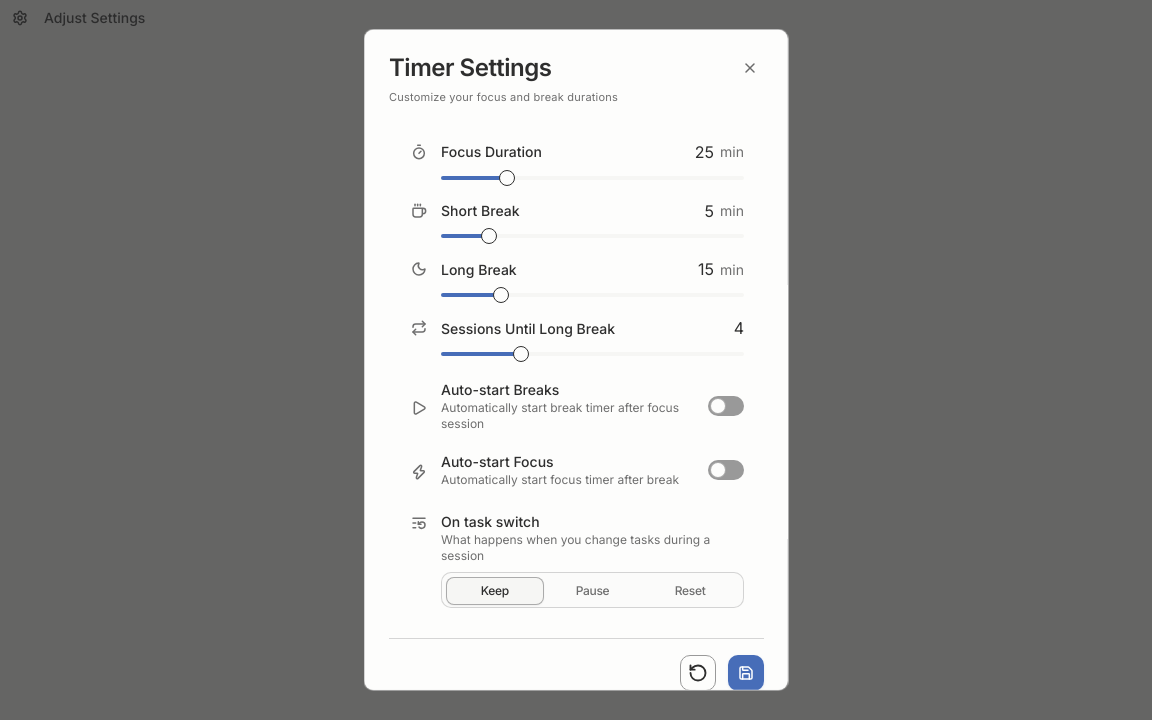
Test: FocusSettingsDialog › resets to the current saved settings, not to a stale mount-time snapshot
Earlier steps of the test are not shown.
Replace the text in the number field named "Focus Duration" with "99" at (694, 152), box top-left (674, 140), bottom-right (714, 163)
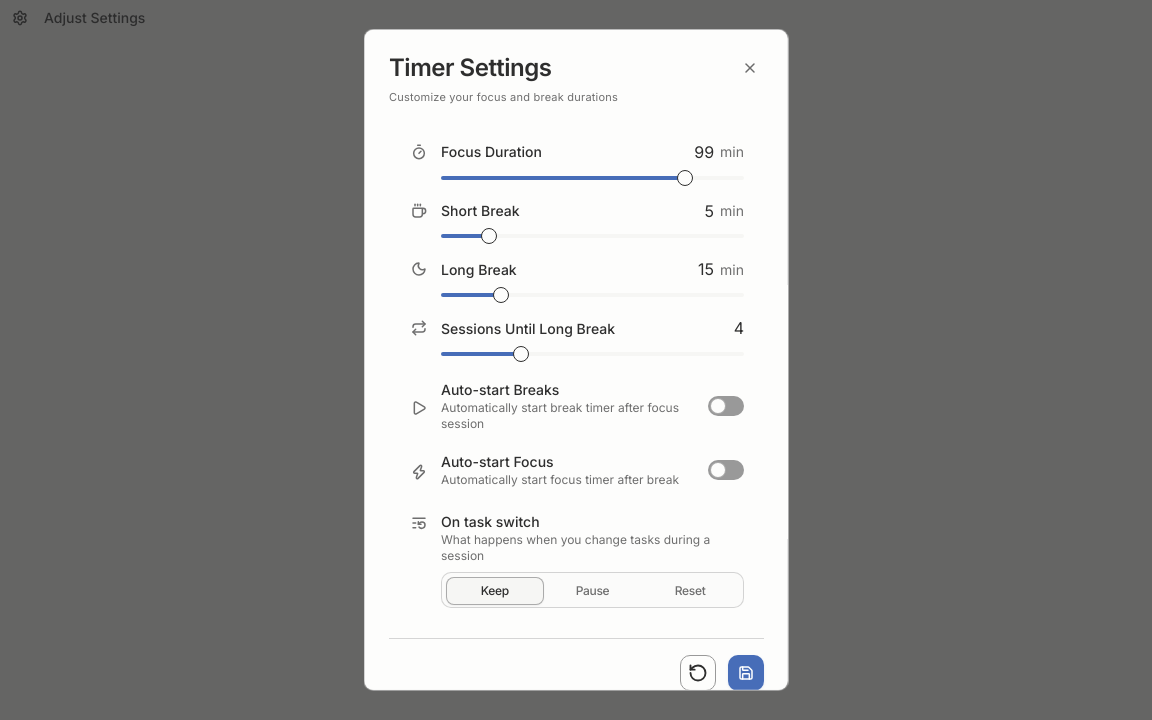
Click the button named "reset to saved settings" at (698, 673), box top-left (680, 655), bottom-right (716, 691)
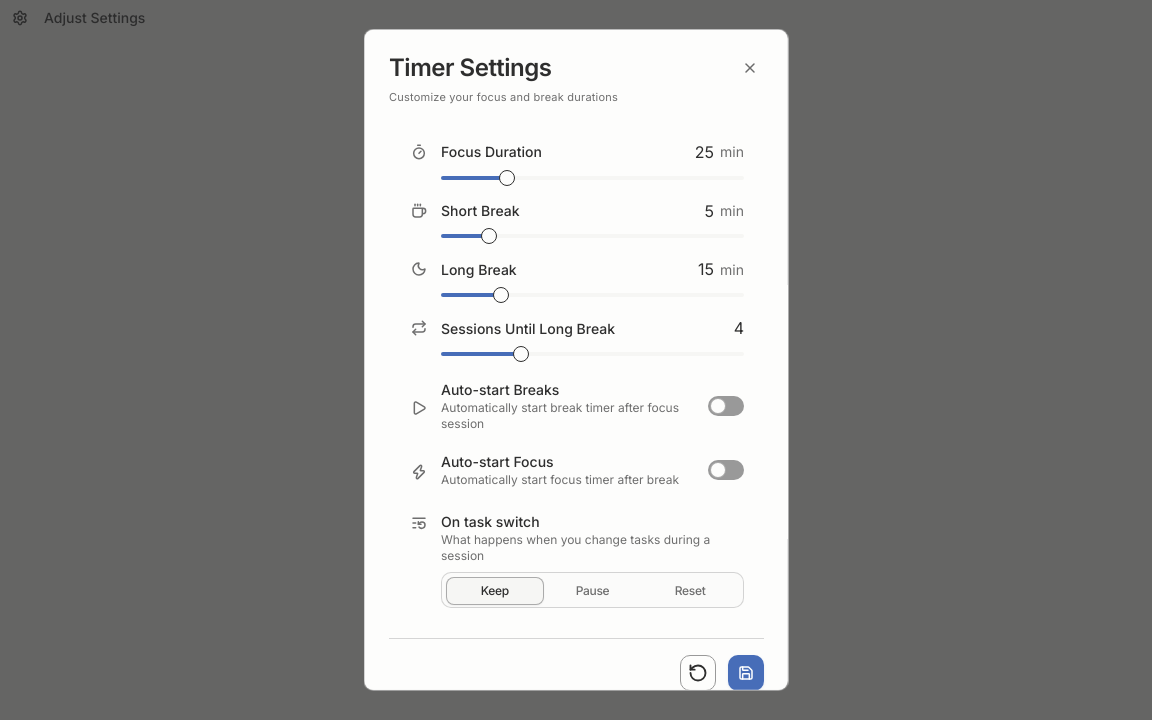
Now the number field named "Focus Duration" holds "25", box top-left (674, 140), bottom-right (714, 163)
